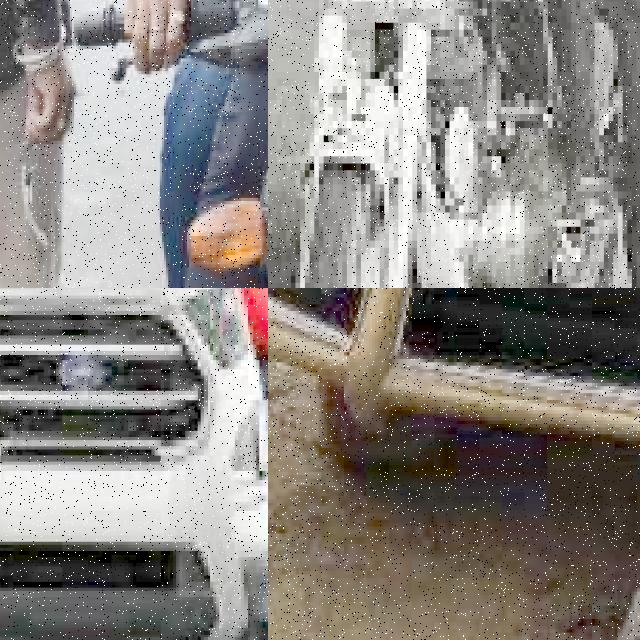bike: (268, 0, 603, 288), (61, 0, 268, 288)
car: (268, 288, 640, 612), (0, 288, 268, 640)
